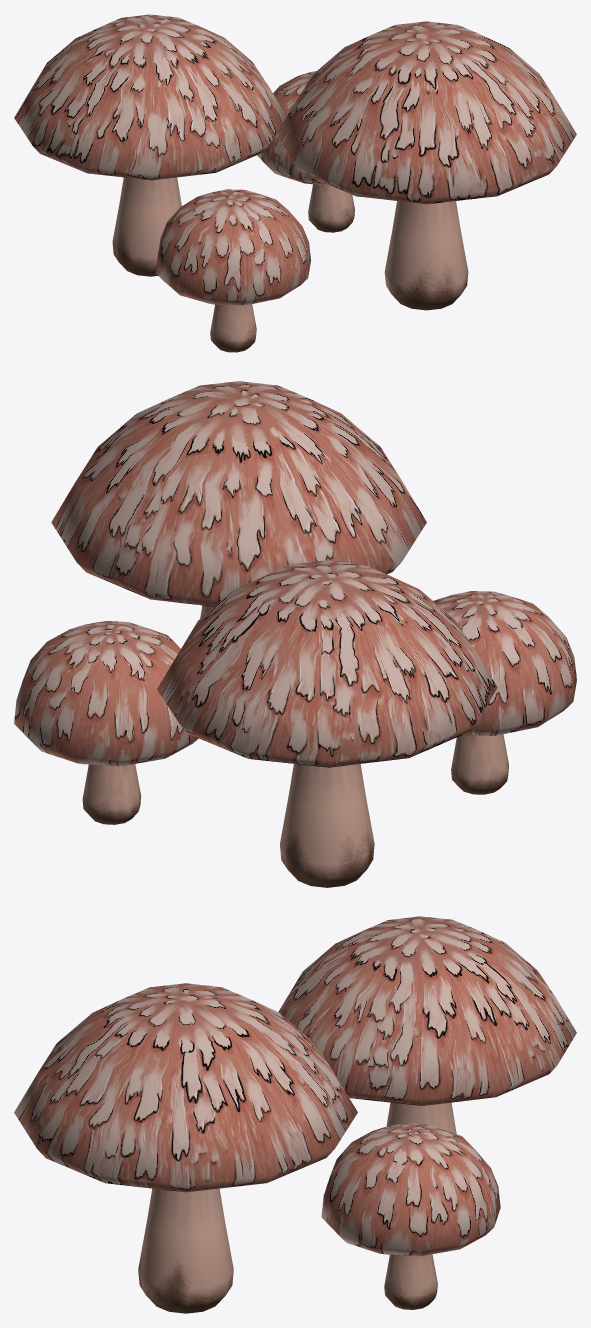
Rendered from SM_Mushroom_Growing3.fbx.
The picture shows the model from 3 angles, top to bottom: view 1: azimuth 30°, elevation 25°; view 2: azimuth 150°, elevation 25°; view 3: azimuth 270°, elevation 25°; orthographic projection. The views are drawn at different scales.
Visible parts, largest first — view 1: SM_Mushroom_Growing3; view 2: SM_Mushroom_Growing3; view 3: SM_Mushroom_Growing3.
Boxes of the visible parts, left/top/right/bottom form: SM_Mushroom_Growing3: left=14, top=14, right=576, bottom=352; SM_Mushroom_Growing3: left=14, top=381, right=576, bottom=887; SM_Mushroom_Growing3: left=14, top=916, right=576, bottom=1313.
Size of the model in its own units: 62.49 by 37.41 by 63.19.
